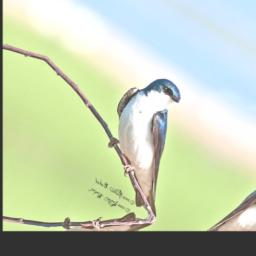Swallow: (77, 62, 220, 219)
